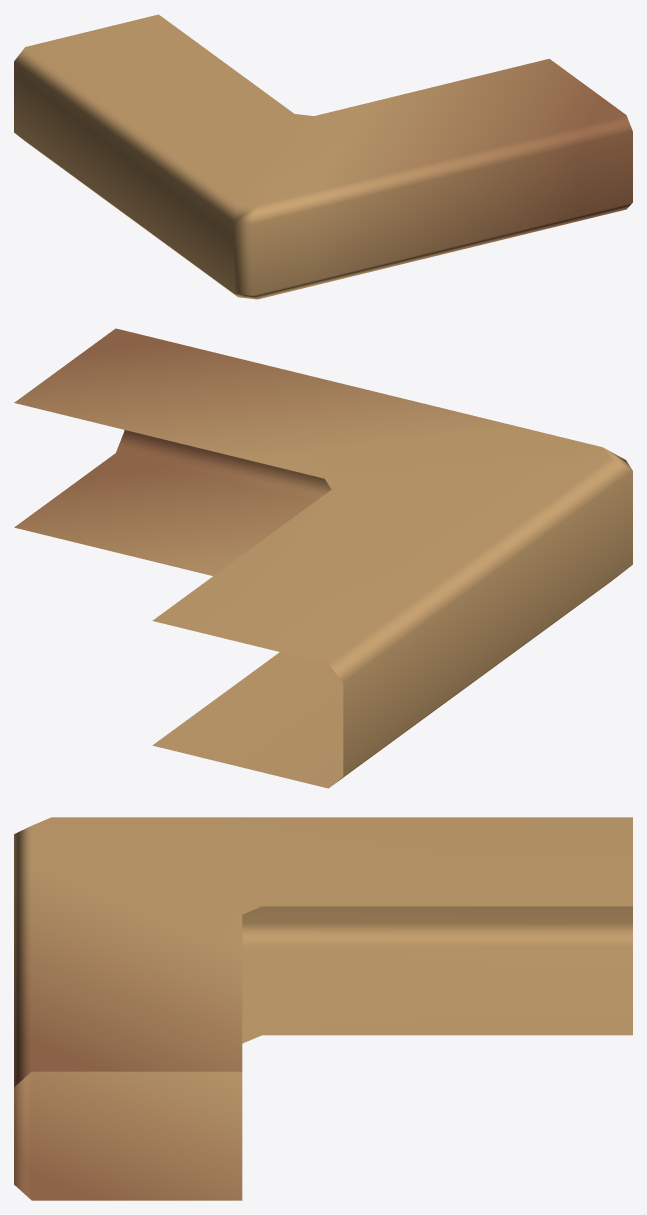
Rendered from DBK_Trim_Extra_Corner.fbx.
3 renders of one model, top to bottom at view 1: azimuth 30°, elevation 25°; view 2: azimuth 150°, elevation 25°; view 3: azimuth 270°, elevation 25°, orthographic. The views are drawn at different scales.
Visible parts, largest first — view 1: DBK_Trim_Extra_Corner; view 2: DBK_Trim_Extra_Corner; view 3: DBK_Trim_Extra_Corner.
Part boxes in pixels (left/top/right/bottom): DBK_Trim_Extra_Corner: left=14, top=14, right=632, bottom=299; DBK_Trim_Extra_Corner: left=14, top=328, right=632, bottom=788; DBK_Trim_Extra_Corner: left=14, top=817, right=632, bottom=1200.
Bounding box in the file's own units: 31.68 × 7.28 × 31.68.
